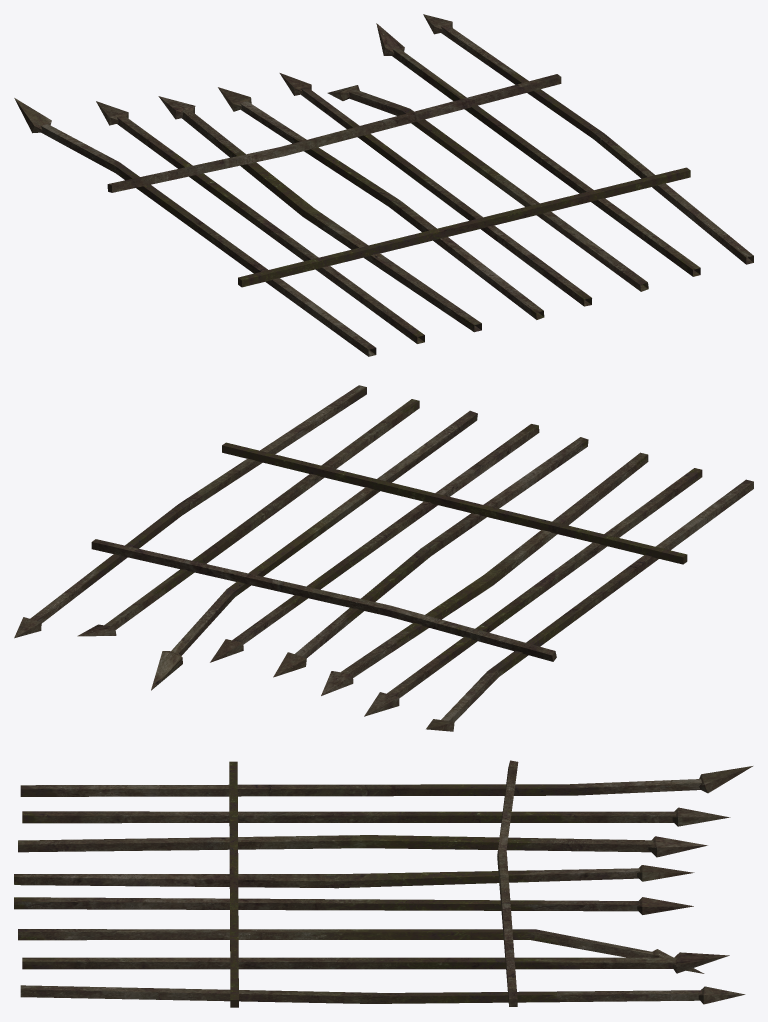
The model's file is TI_Fence_02.fbx.
3 views of the same model, one above another, from view 1: azimuth 30°, elevation 25°; view 2: azimuth 150°, elevation 25°; view 3: azimuth 270°, elevation 25° (orthographic). The views are drawn at different scales.
Parts seen in each view (by area): view 1: TI_Fence_02; view 2: TI_Fence_02; view 3: TI_Fence_02.
Part boxes in pixels (box(x1,y1,x2,y2)): TI_Fence_02: box(14, 14, 753, 356); TI_Fence_02: box(14, 385, 753, 731); TI_Fence_02: box(14, 760, 752, 1007).
Bounding box in the file's own units: 2.68 × 0.2841 × 3.51.
